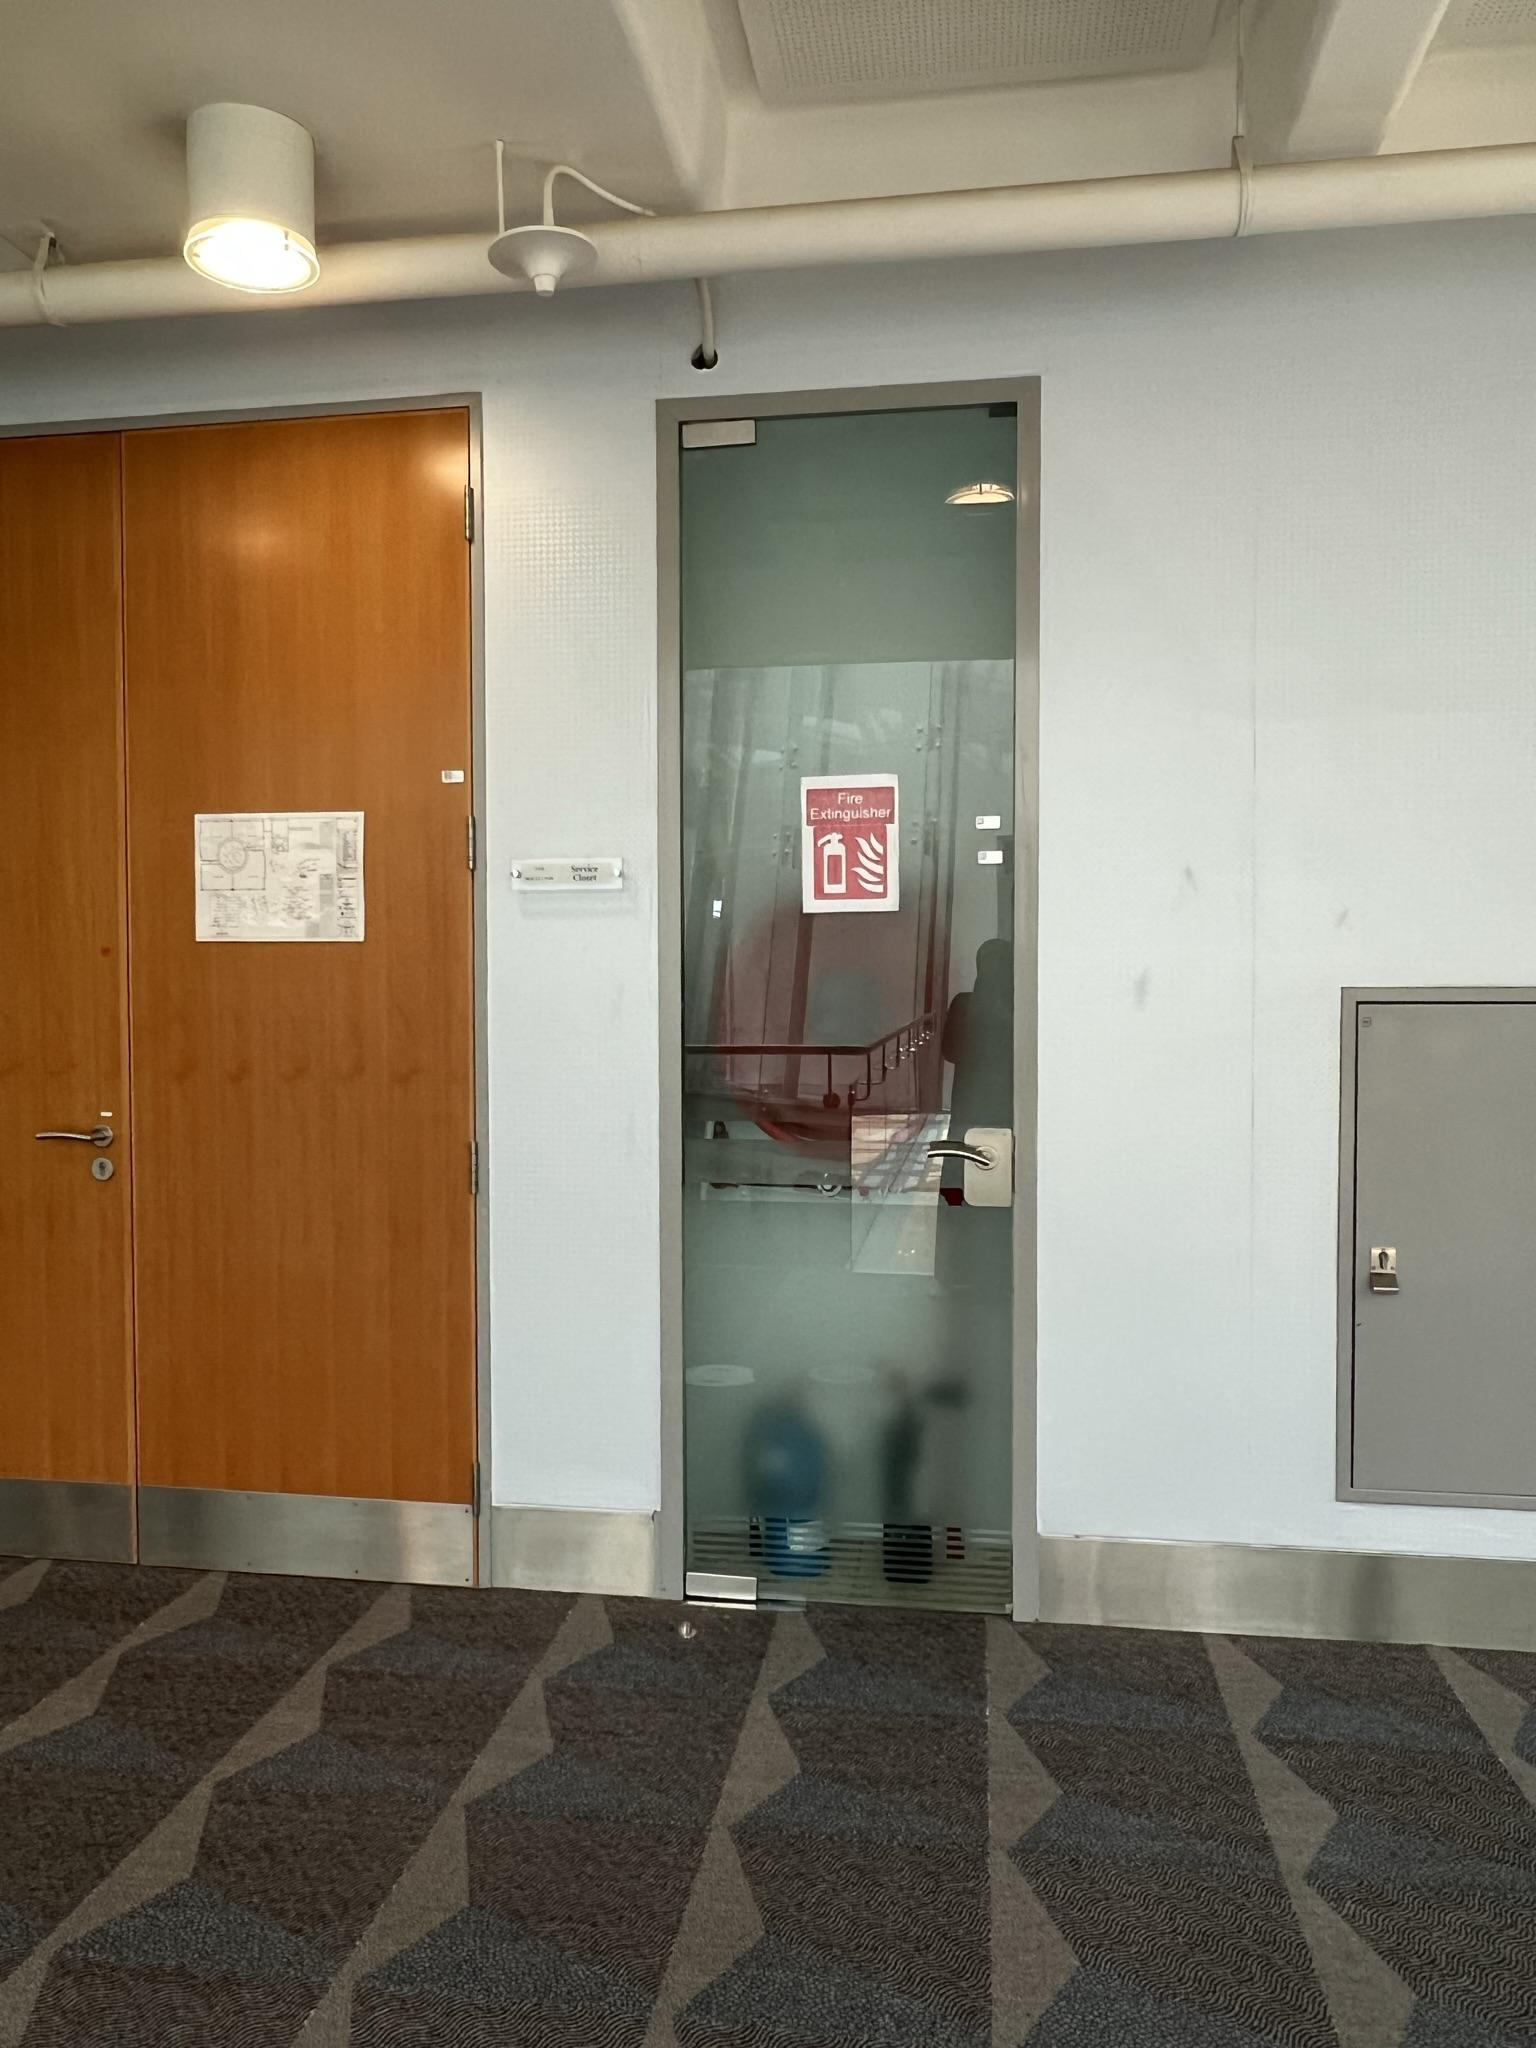door: (0, 411, 494, 1571), (662, 397, 1037, 1598)
handle: (921, 1116, 1025, 1218), (23, 1106, 124, 1190)
